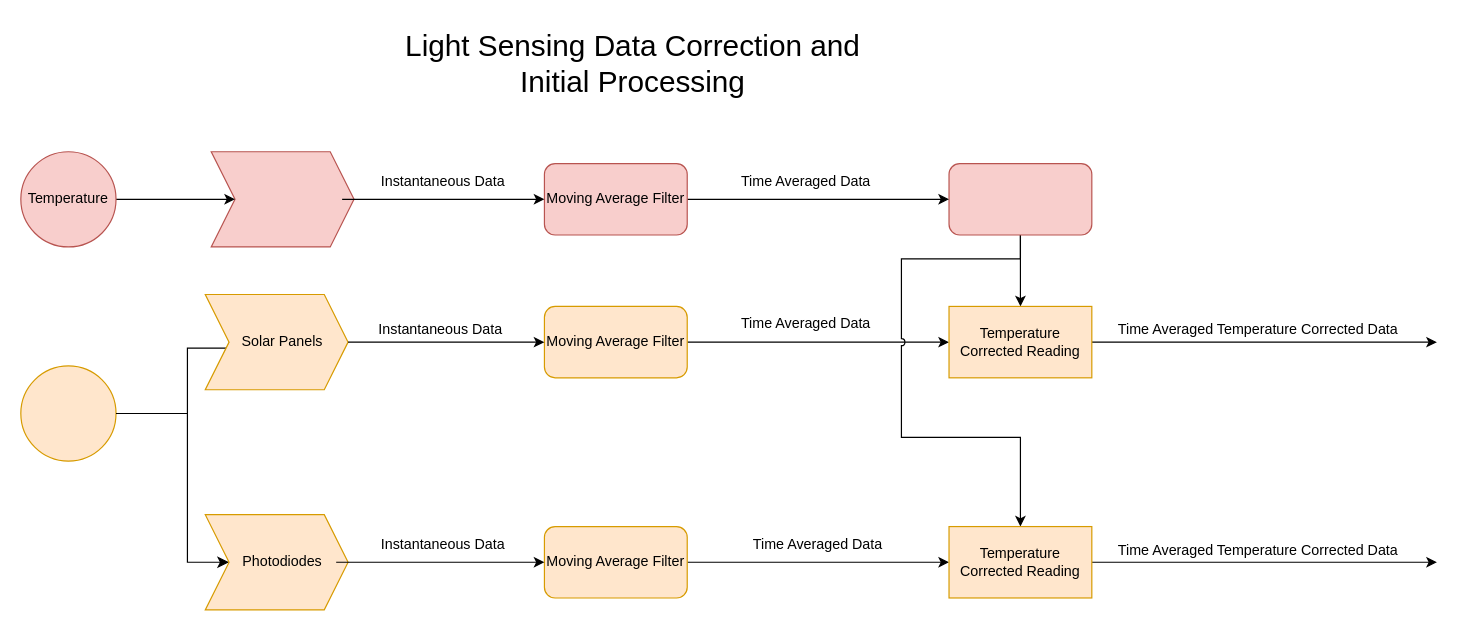
The diagram is 1467 pixels wide and 631 high, and some of its shapes have lost their labels. The centre of each missing label's shape, as x and y in pixels:
"Light" belongs at (x=68, y=413).
"Temperature Reading" belongs at (x=1020, y=198).
"Temperature Sensor" belongs at (x=282, y=199).
